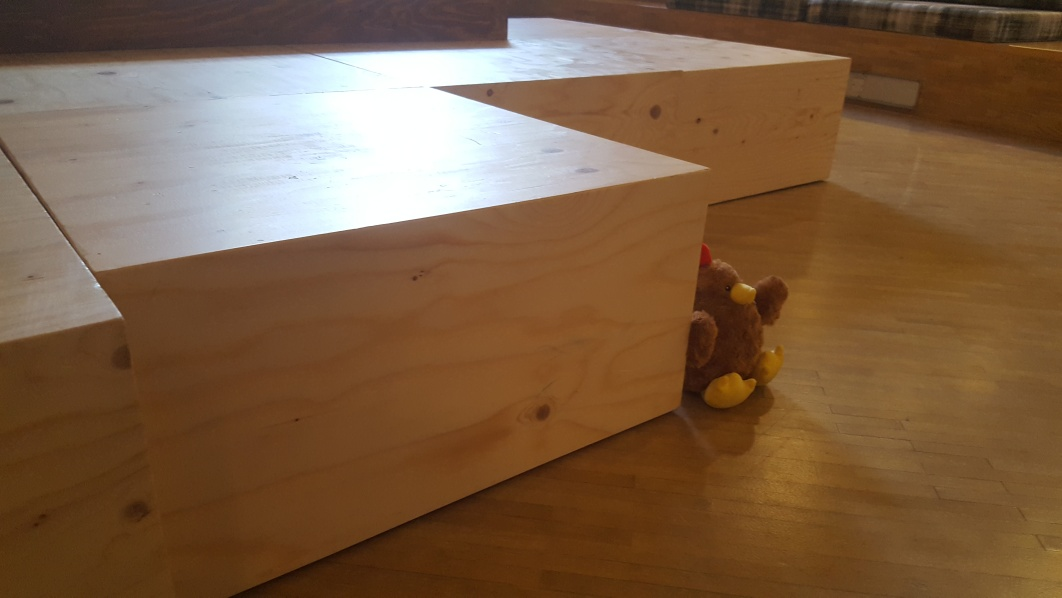chicken: (685, 235, 788, 409)
